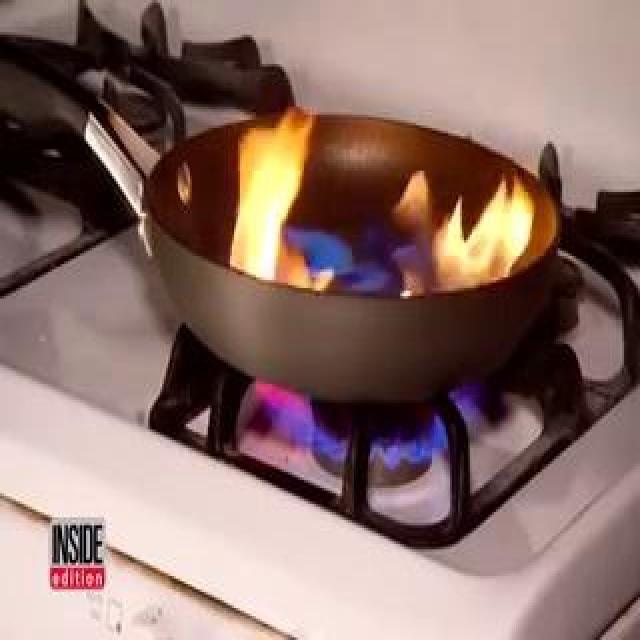Fire: (332, 166, 385, 258)
